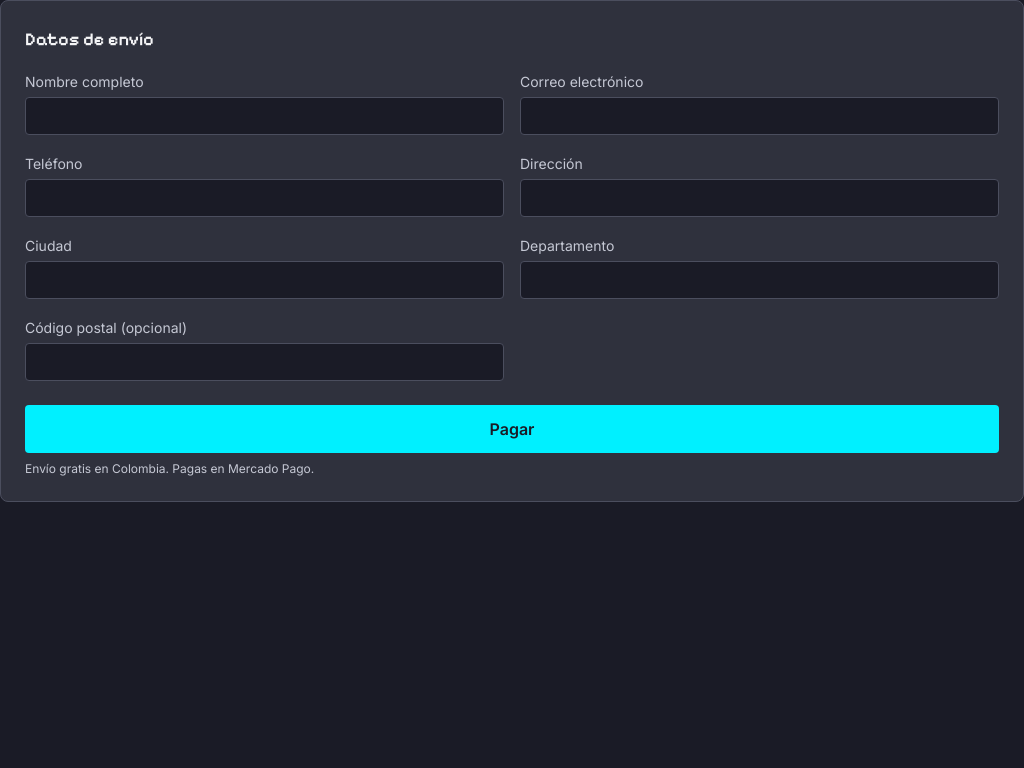
CheckoutForm › borra el error de un campo cuando el usuario vuelve a escribir en él
Click the button "Pagar" at (512, 429), box [25, 405, 999, 453]
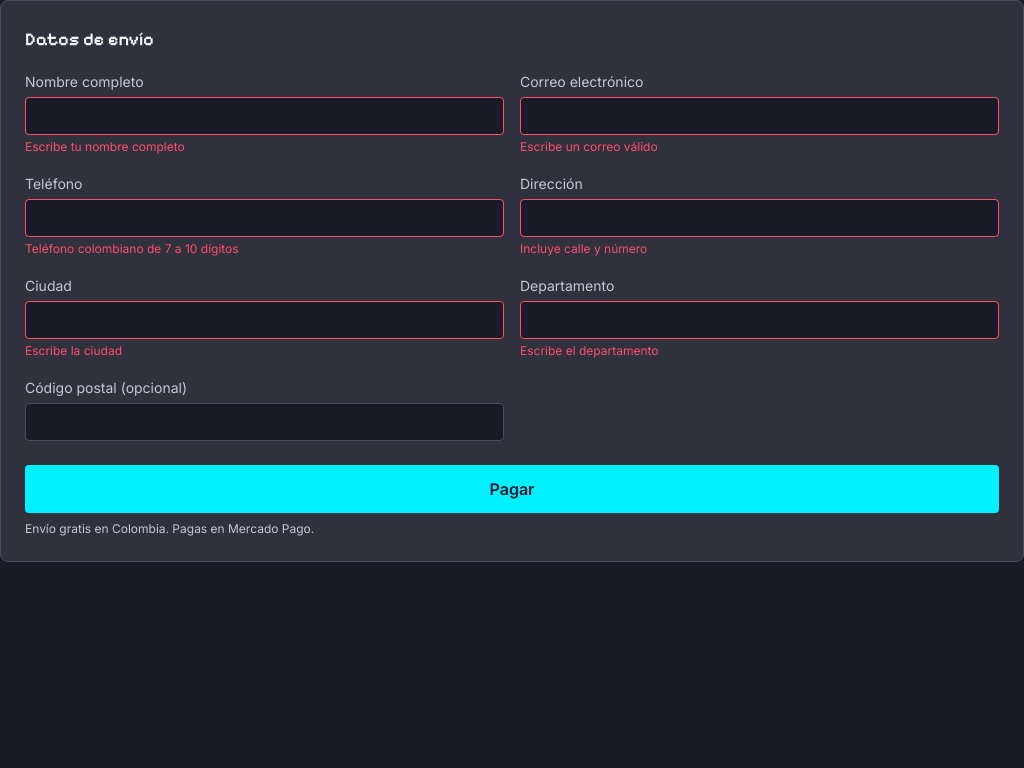
Expected: the text "Escribe tu nombre completo" is shown, [25, 139, 185, 154]
Type "Miguel Pérez" into the field labelled "Nombre completo Escribe tu nombre completo" at (264, 116), box [25, 97, 504, 135]
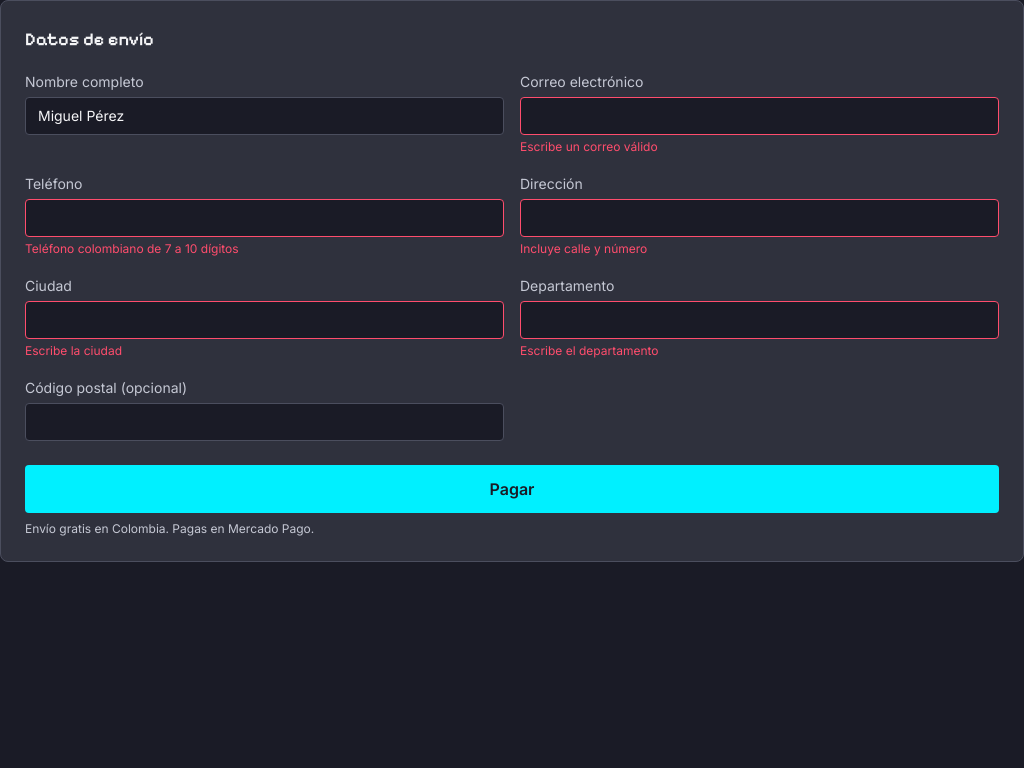
Expected: the text "Escribe un correo válido" is shown, [520, 139, 658, 154]
Expected: the text "Escribe tu nombre completo" is gone
